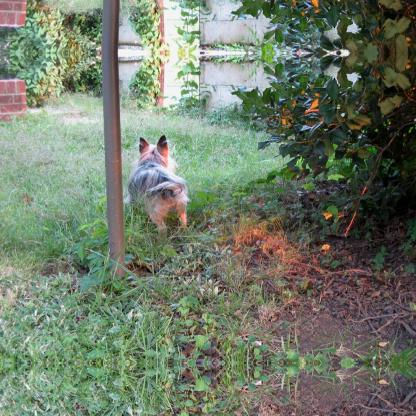Dog: (126, 134, 188, 230)
